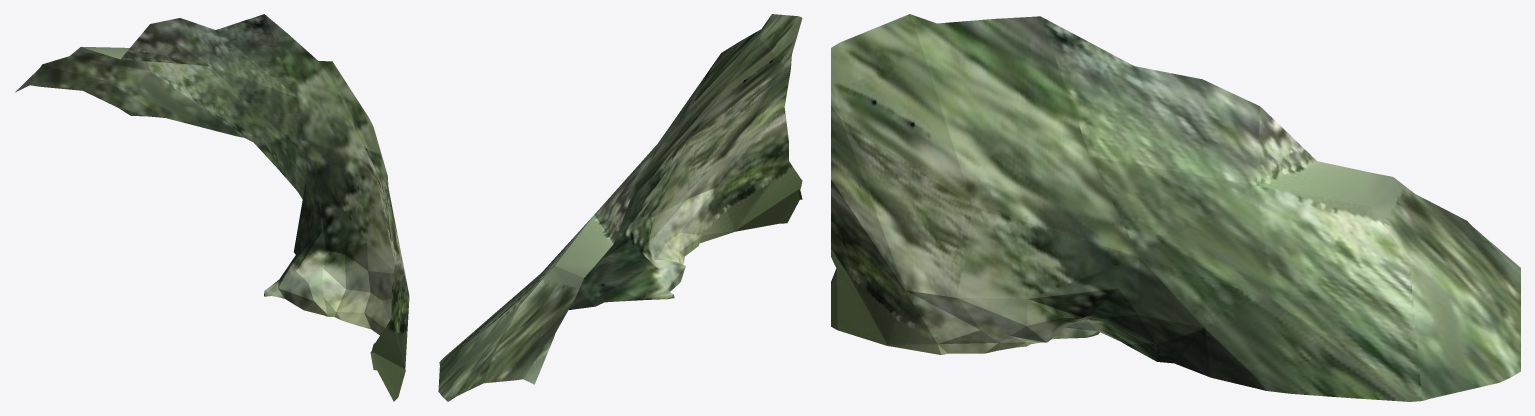
3 views of the same model, side by side, from view 1: azimuth 30°, elevation 25°; view 2: azimuth 150°, elevation 25°; view 3: azimuth 270°, elevation 25° (orthographic). The views are drawn at different scales.
Bounding box in the file's own units: 7.6 × 12.66 × 26.11.
1 material, 1 textured.
